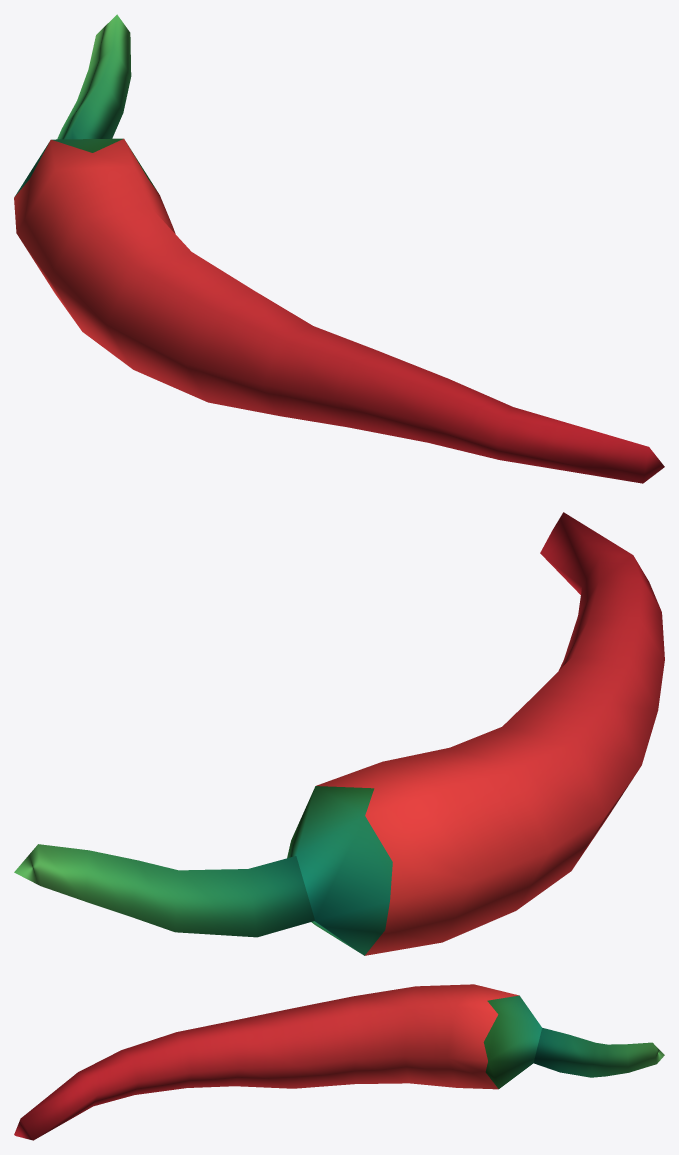
File: chili_002.glb
3 renders of one model, top to bottom at view 1: azimuth 30°, elevation 25°; view 2: azimuth 150°, elevation 25°; view 3: azimuth 270°, elevation 25°, orthographic. The views are drawn at different scales.
Parts seen in each view (by area): view 1: chili_002; view 2: chili_002; view 3: chili_002.
Part boxes in pixels (<box>): chili_002: <box>14,14,664,483</box>; chili_002: <box>14,512,664,955</box>; chili_002: <box>14,984,664,1140</box>.
Size of the model in its own units: 0.0791 by 0.0341 by 0.2216.
Materials: 1 (1 with a texture image).
